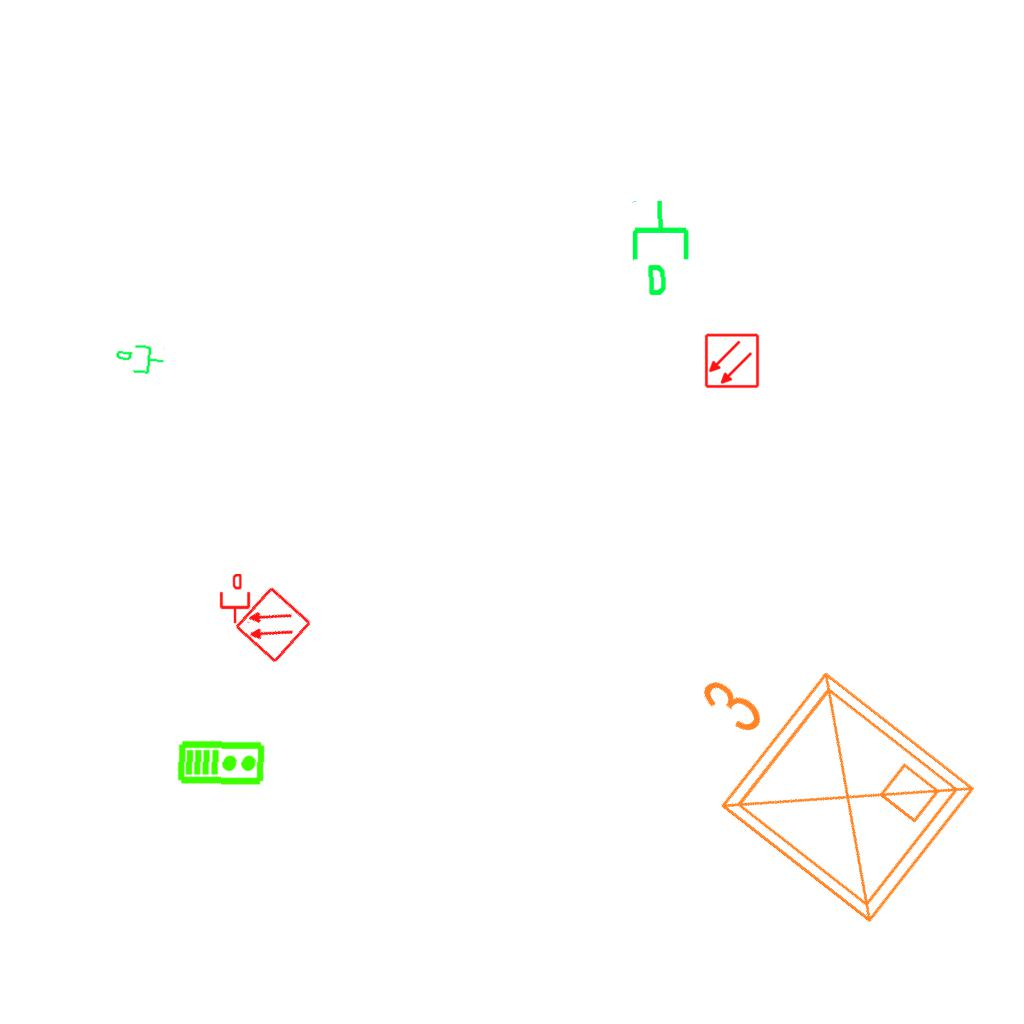Datenanschluss_einfach: (627, 197, 698, 299), (113, 340, 167, 380), (218, 574, 252, 624)
Einbaudownlights_LED_Konferenzraeume: (630, 600, 996, 950)
Gegensprechanlage_mit_Video: (177, 737, 266, 787)
RMO_Rauchmelder_optischer: (233, 585, 313, 665), (704, 333, 760, 389)
